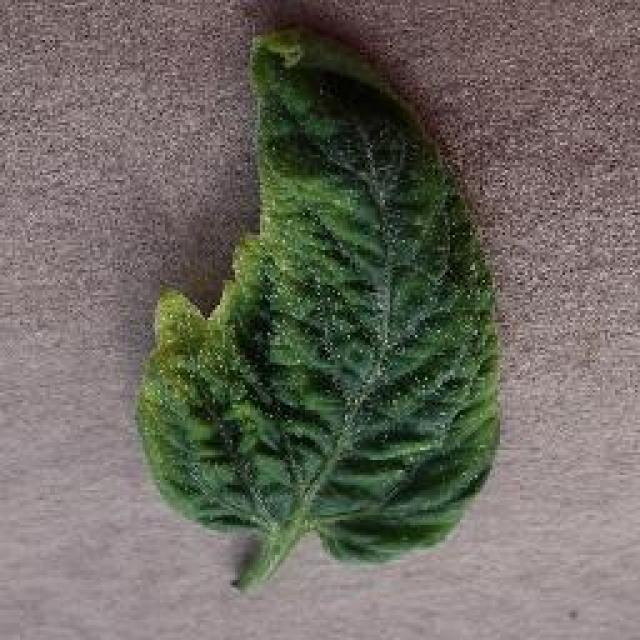Tomato yellow virus leaf: (135, 21, 500, 566)
